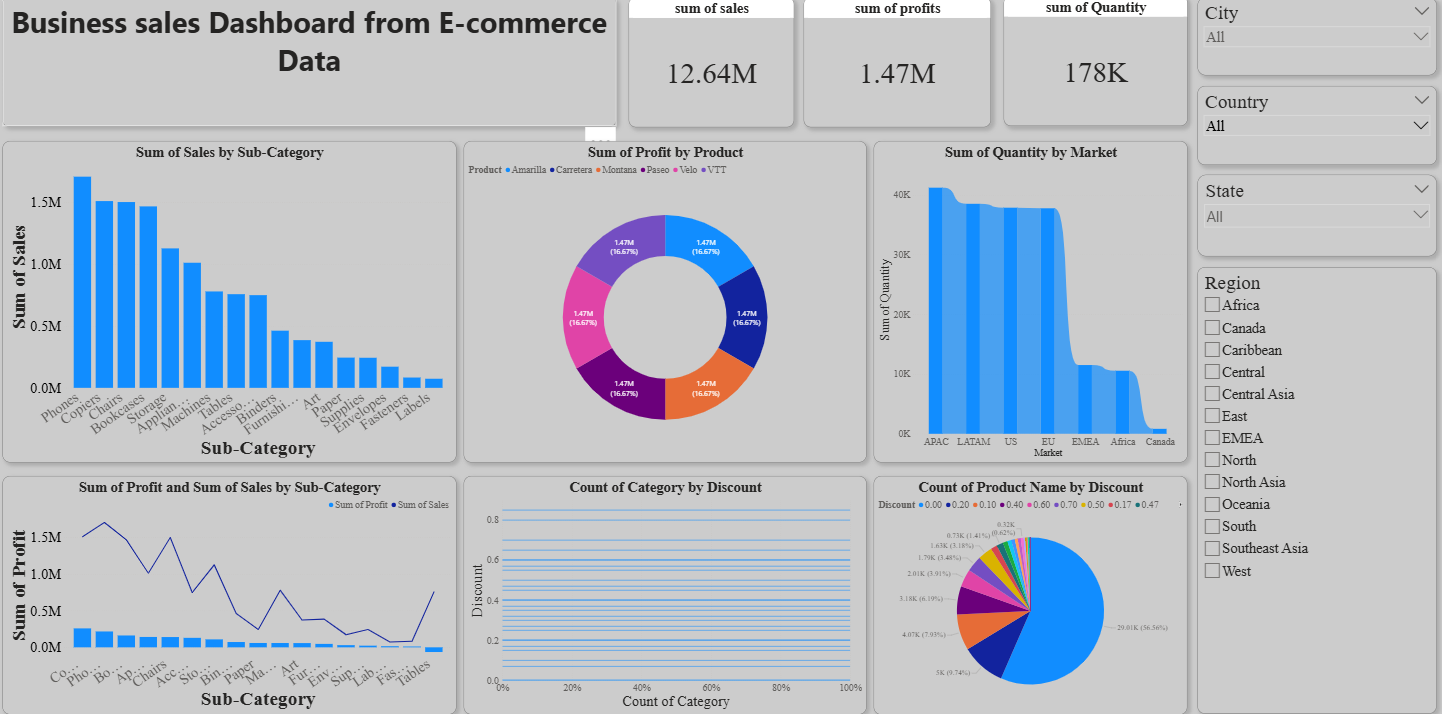

This screenshot's page, from the dashboard's own definition file:
{"tool":"powerbi","page":{"name":"Page 1","canvas":[4000,2000],"ordinal":0},"visuals":[{"type":"textbox","title":"Ecommerces sales","box":[21.8,1.8,1692.7,356.4],"z":0},{"type":"card","title":"sum of sales","fields":{"Values":["Sum(Global-Superstore.Sales)"]},"box":[1747.3,3.6,456.4,358.2],"z":1000},{"type":"card","title":"sum of profits","fields":{"Values":["Sum(Global-Superstore.Profit)"]},"box":[2230.9,3.6,516.4,358.2],"z":2000},{"type":"card","title":"sum of Quantity","fields":{"Values":["Sum(Global-Superstore.Quantity)"]},"box":[2781.8,0,507.3,358.2],"z":3000},{"type":"slicer","fields":{"Values":["Global-Superstore.City"]},"box":[3317.3,1.9,659.6,215.4],"z":4000},{"type":"slicer","fields":{"Values":["Global-Superstore.Country"]},"box":[3317.3,248.1,659.6,217.3],"z":5000},{"type":"slicer","fields":{"Values":["Global-Superstore.State"]},"box":[3317.3,494.2,659.6,225],"z":6000},{"type":"slicer","fields":{"Values":["Global-Superstore.Region"]},"box":[3318.8,746.9,659.4,1231.2],"z":7000},{"type":"clusteredColumnChart","fields":{"Y":["Sum(Global-Superstore.Sales)"],"Category":["Global-Superstore.Sub-Category"]},"box":[21.2,400,1251.9,886.5],"z":8000},{"type":"lineClusteredColumnComboChart","fields":{"Category":["Global-Superstore.Sub-Category"],"Y":["Sum(Global-Superstore.Profit)"],"Y2":["Sum(Global-Superstore.Sales)"]},"box":[21.2,1323.1,1251.9,657.7],"z":9000},{"type":"donutChart","fields":{"Y":["Sum(Global-Superstore.Profit)"],"Category":["Global-Superstore.Category"]},"box":[1292.3,400,1111.5,886.5],"z":10000},{"type":"hundredPercentStackedBarChart","fields":{"Category":["Global-Superstore.Discount"],"Y":["CountNonNull(Global-Superstore.Category)"]},"box":[1292.3,1323.1,1111.5,657.7],"z":11000},{"type":"ribbonChart","fields":{"Y":["Sum(Global-Superstore.Quantity)"],"Category":["Global-Superstore.Market"]},"box":[2423.1,400,865.4,886.5],"z":12000},{"type":"pieChart","fields":{"Category":["Global-Superstore.Discount"],"Y":["CountNonNull(Global-Superstore.Product Name)"]},"box":[2423,1323,865,658],"z":13000}]}

Visuals, with their boxes in screenshot pixels (x1, y1, x2, y2), scaled from the page's 4000x2000 canvas onto the 1442x714 screenshot:
"Ecommerces sales" textbox: x1=8 y1=1 x2=618 y2=128
"sum of sales" card: x1=630 y1=1 x2=794 y2=129
"sum of profits" card: x1=804 y1=1 x2=990 y2=129
"sum of Quantity" card: x1=1003 y1=0 x2=1186 y2=128
slicer - Global-Superstore.City: x1=1196 y1=1 x2=1434 y2=78
slicer - Global-Superstore.Country: x1=1196 y1=89 x2=1434 y2=166
slicer - Global-Superstore.State: x1=1196 y1=176 x2=1434 y2=257
slicer - Global-Superstore.Region: x1=1196 y1=267 x2=1434 y2=706
clusteredColumnChart - Sum(Global-Superstore.Sales) x Global-Superstore.Sub-Category: x1=8 y1=143 x2=459 y2=459
lineClusteredColumnComboChart - Global-Superstore.Sub-Category x Sum(Global-Superstore.Profit): x1=8 y1=472 x2=459 y2=707
donutChart - Sum(Global-Superstore.Profit) x Global-Superstore.Category: x1=466 y1=143 x2=867 y2=459
hundredPercentStackedBarChart - Global-Superstore.Discount x CountNonNull(Global-Superstore.Category): x1=466 y1=472 x2=867 y2=707
ribbonChart - Sum(Global-Superstore.Quantity) x Global-Superstore.Market: x1=874 y1=143 x2=1186 y2=459
pieChart - Global-Superstore.Discount x CountNonNull(Global-Superstore.Product Name): x1=873 y1=472 x2=1185 y2=707
